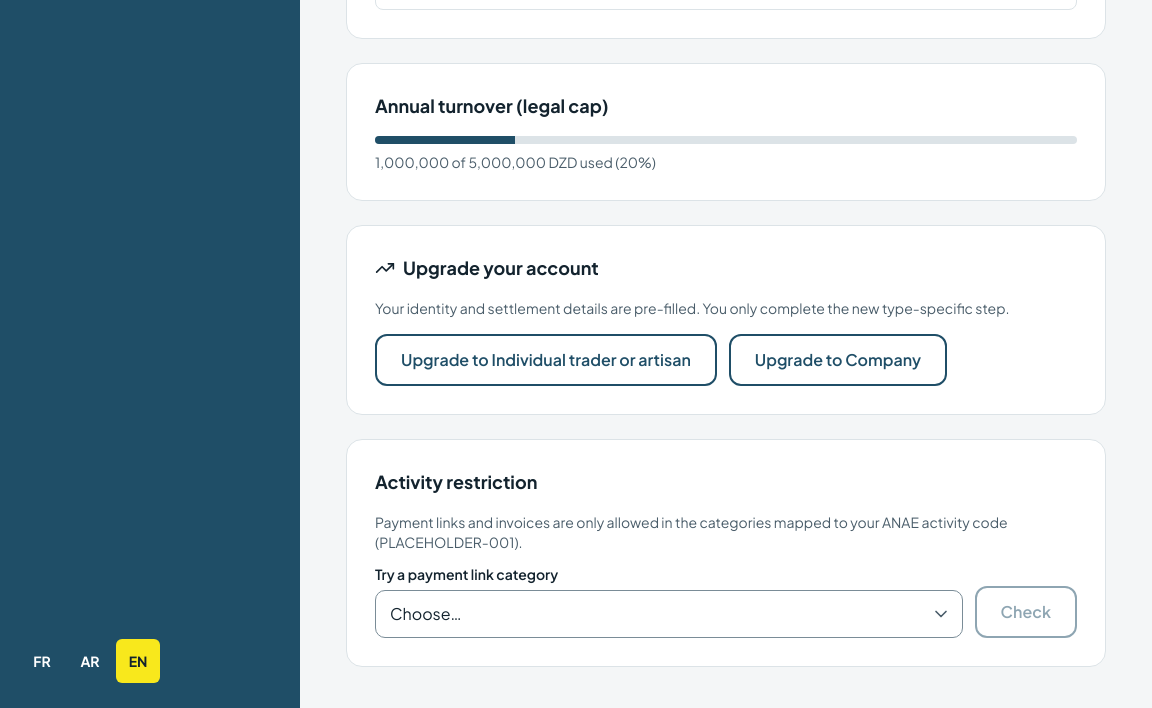
upgrade path › AE -> Company: the account step reappears only because the role is new for companies
(page scrolled)
Click the button "Upgrade to Company" at (838, 360), box [729,334,947,386]
(page scrolled)
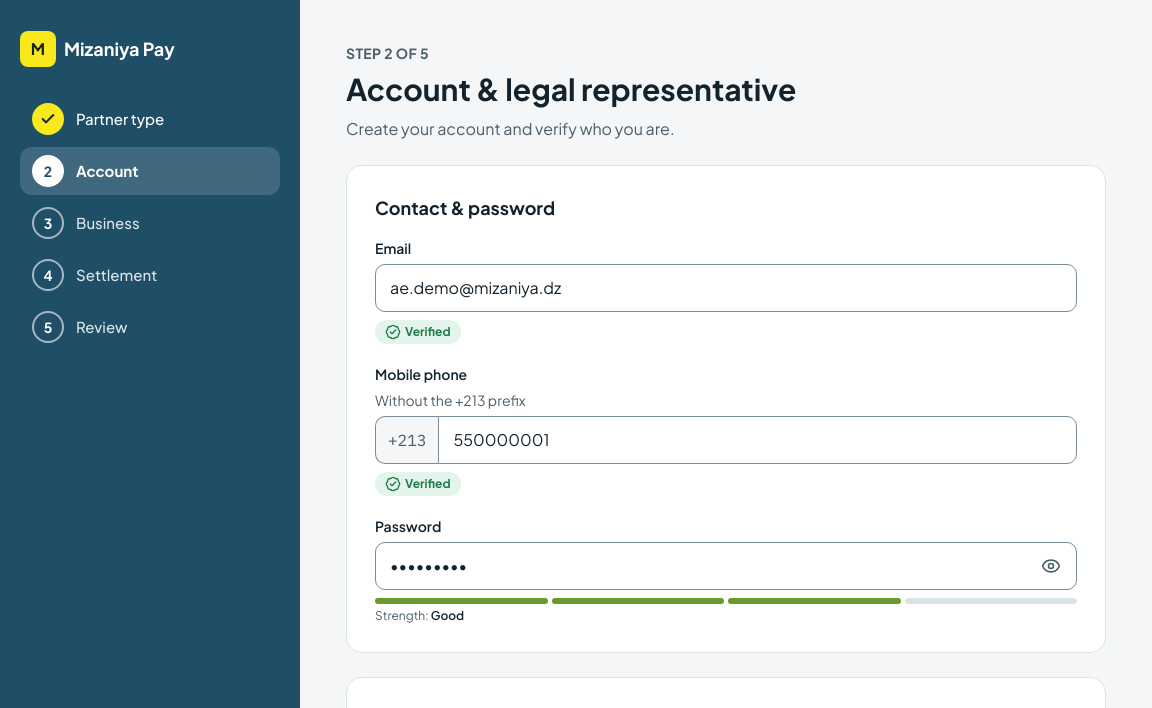
Result: the heading "Account & legal representative" is shown at [346,70,796,108]
